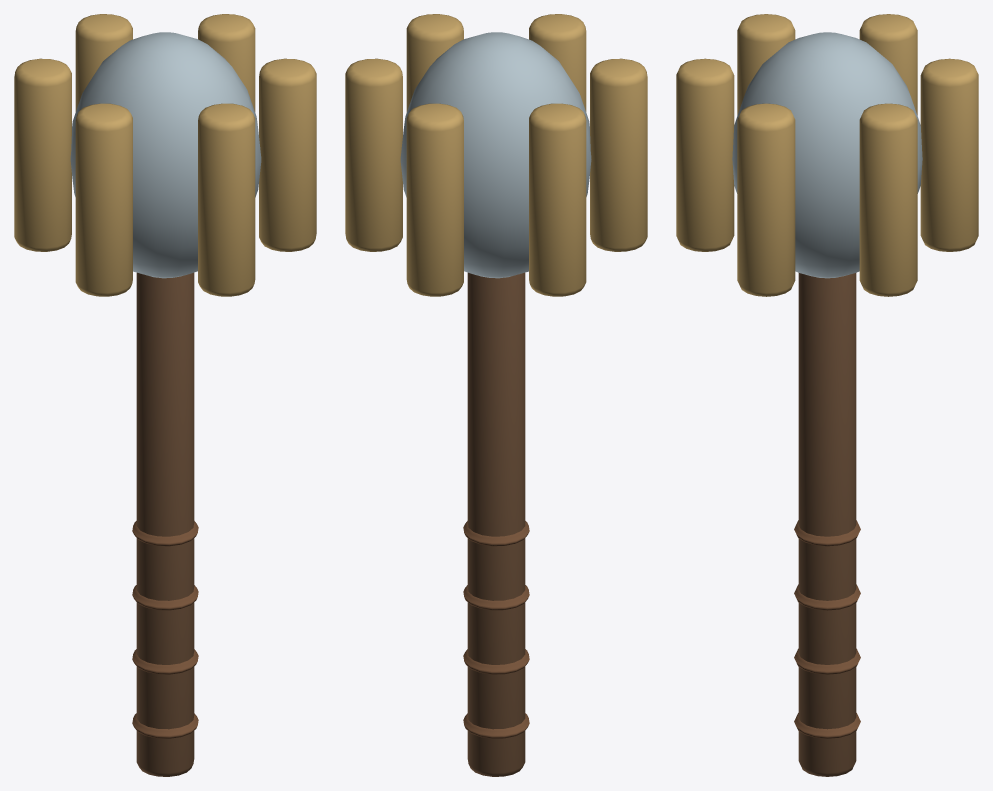
Rendered from iron_mace.glb.
3 views of the same model, side by side, from view 1: azimuth 30°, elevation 25°; view 2: azimuth 150°, elevation 25°; view 3: azimuth 270°, elevation 25° (orthographic).
Parts seen in each view (by area): view 1: Bound haft, Flanged mace core, Mace flange.005, Mace flange, Mace flange.004, Mace flange.001, Mace flange.003, Mace flange.002, Grip binding.002, Grip binding.001, Grip binding.003, Grip binding; view 2: Bound haft, Flanged mace core, Mace flange.004, Mace flange.003, Mace flange.005, Mace flange.002, Mace flange, Mace flange.001, Grip binding.002, Grip binding.001, Grip binding.003, Grip binding; view 3: Bound haft, Flanged mace core, Mace flange.001, Mace flange.002, Mace flange, Mace flange.003, Mace flange.004, Mace flange.005, Grip binding, Grip binding.001, Grip binding.002, Grip binding.003.
Boxes of the visible parts, bbox=[...] form: Bound haft: bbox=[136, 272, 194, 776]; Flanged mace core: bbox=[70, 32, 261, 278]; Mace flange.005: bbox=[75, 103, 132, 296]; Mace flange: bbox=[198, 103, 255, 296]; Mace flange.004: bbox=[14, 58, 71, 251]; Mace flange.001: bbox=[259, 58, 316, 251]; Mace flange.003: bbox=[75, 14, 132, 111]; Mace flange.002: bbox=[198, 14, 255, 111]; Grip binding.002: bbox=[132, 585, 198, 610]; Grip binding.001: bbox=[132, 649, 198, 674]; Grip binding.003: bbox=[132, 521, 198, 546]; Grip binding: bbox=[132, 713, 198, 738]; Bound haft: bbox=[467, 272, 525, 776]; Flanged mace core: bbox=[400, 32, 591, 278]; Mace flange.004: bbox=[529, 103, 586, 296]; Mace flange.003: bbox=[406, 103, 463, 296]; Mace flange.005: bbox=[590, 58, 647, 251]; Mace flange.002: bbox=[345, 58, 402, 251]; Mace flange: bbox=[529, 14, 586, 111]; Mace flange.001: bbox=[406, 14, 463, 111]; Grip binding.002: bbox=[463, 585, 529, 610]; Grip binding.001: bbox=[463, 649, 529, 674]; Grip binding.003: bbox=[463, 521, 529, 546]; Grip binding: bbox=[463, 713, 529, 738]; Bound haft: bbox=[798, 273, 856, 776]; Flanged mace core: bbox=[732, 32, 922, 278]; Mace flange.001: bbox=[737, 103, 795, 296]; Mace flange.002: bbox=[859, 103, 917, 296]; Mace flange: bbox=[676, 58, 734, 251]; Mace flange.003: bbox=[920, 58, 978, 251]; Mace flange.004: bbox=[859, 14, 917, 115]; Mace flange.005: bbox=[737, 14, 795, 115]; Grip binding: bbox=[794, 713, 860, 738]; Grip binding.001: bbox=[794, 648, 860, 674]; Grip binding.002: bbox=[794, 584, 860, 610]; Grip binding.003: bbox=[794, 520, 860, 546].
Size of the model in its own units: 0.4191 by 1.25 by 0.47.
